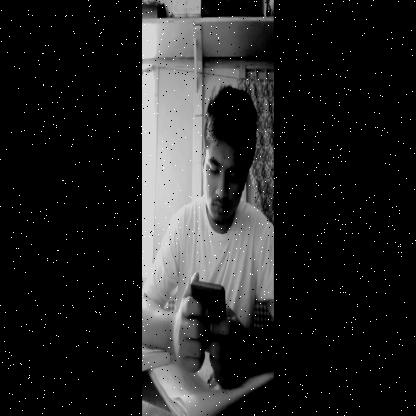Normal: (195, 90, 251, 231)
